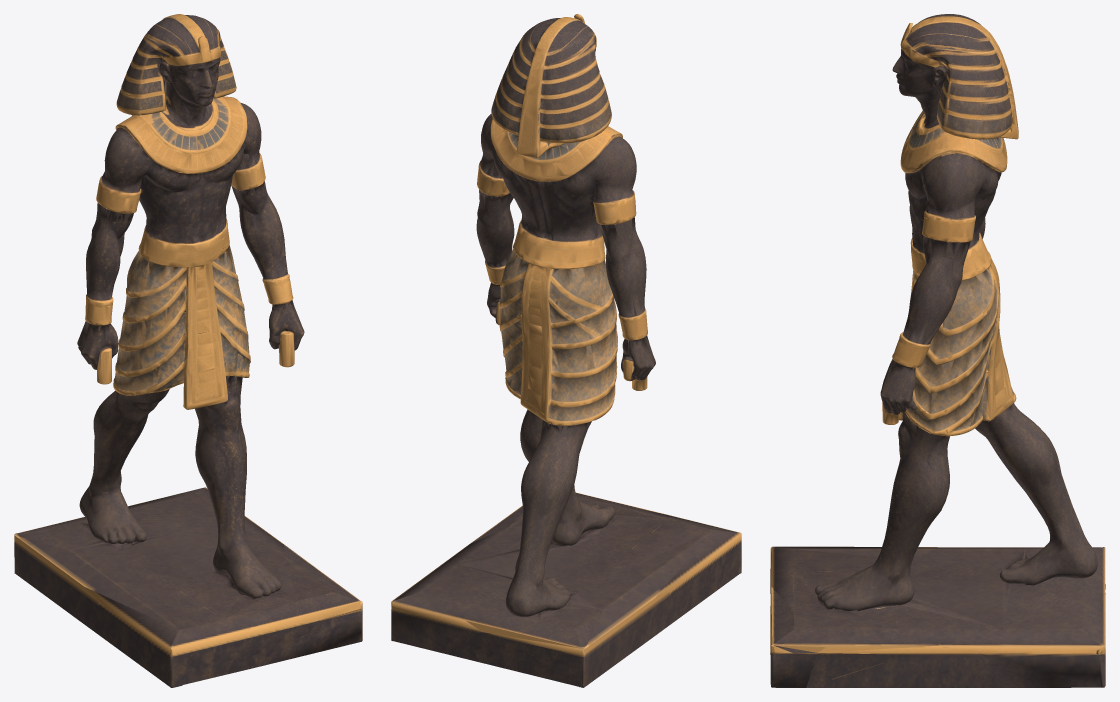
The model's file is Bearer.fbx.
The picture shows the model from 3 angles, left to right: view 1: azimuth 30°, elevation 25°; view 2: azimuth 150°, elevation 25°; view 3: azimuth 270°, elevation 25°; orthographic projection. The views are drawn at different scales.
Visible parts, largest first — view 1: Mesh_0; view 2: Mesh_0; view 3: Mesh_0.
Boxes of the visible parts, bbox=[...] form: Mesh_0: bbox=[14, 14, 362, 687]; Mesh_0: bbox=[391, 14, 741, 687]; Mesh_0: bbox=[770, 14, 1105, 687].
Size of the model in its own units: 65.83 by 190 by 93.11.
1 material, 1 textured.
